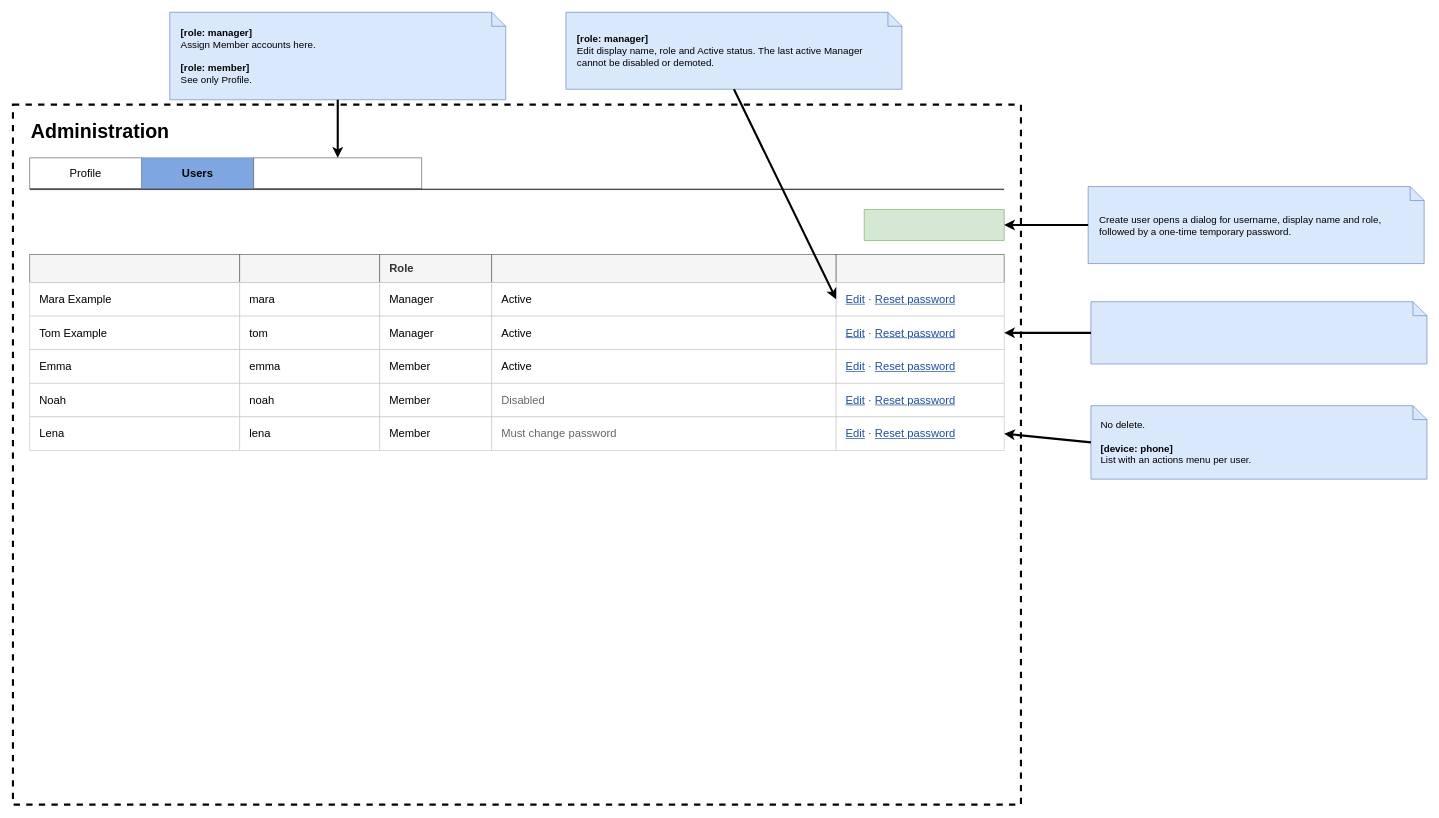
Image size: 1439x818. Some labels were removed from this diagram. The shapes that lost their labels are listed below. From the top down, each one's centre as x and y in pixels, then its label:
At (x=337, y=173): "Account assignments".
At (x=933, y=224): "+ Create user".
At (x=134, y=268): "Display name".
At (x=309, y=268): "Username".
At (x=663, y=268): "Status".
At (x=919, y=268): "Actions".
At (x=1258, y=332): "Reset password requires confirmation and shows a one-time temporary password.".
